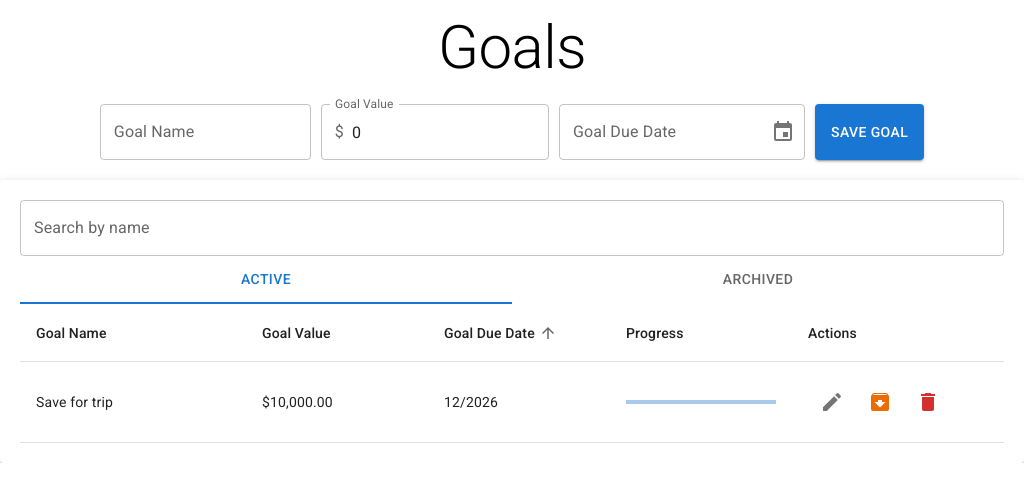
Goals page › should reset form when deselect is clicked after editing
Click the button named "Edit": (832,402) [808,378,856,426]
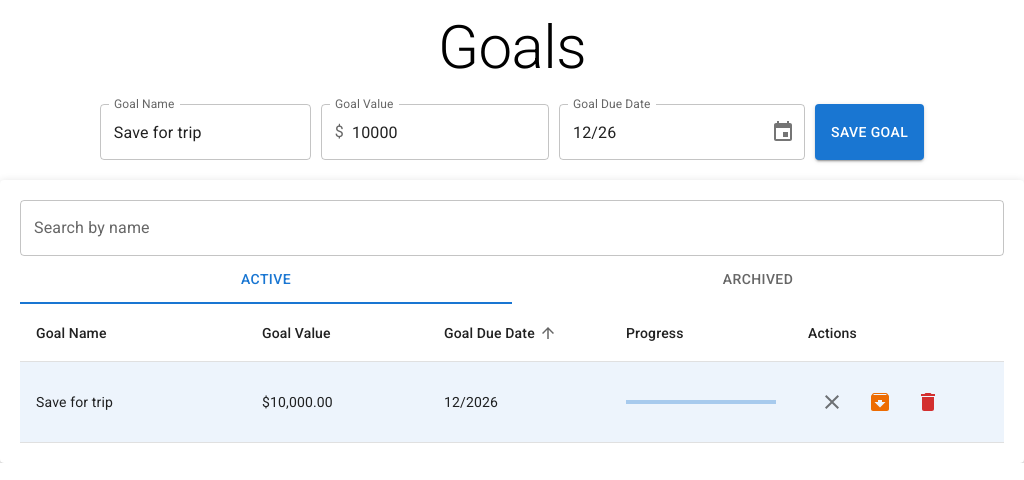
Now the field labelled "Goal Name" holds "Save for trip", box [100,104,311,160]
Click the button named "Deselect": (832,402) [808,378,856,426]
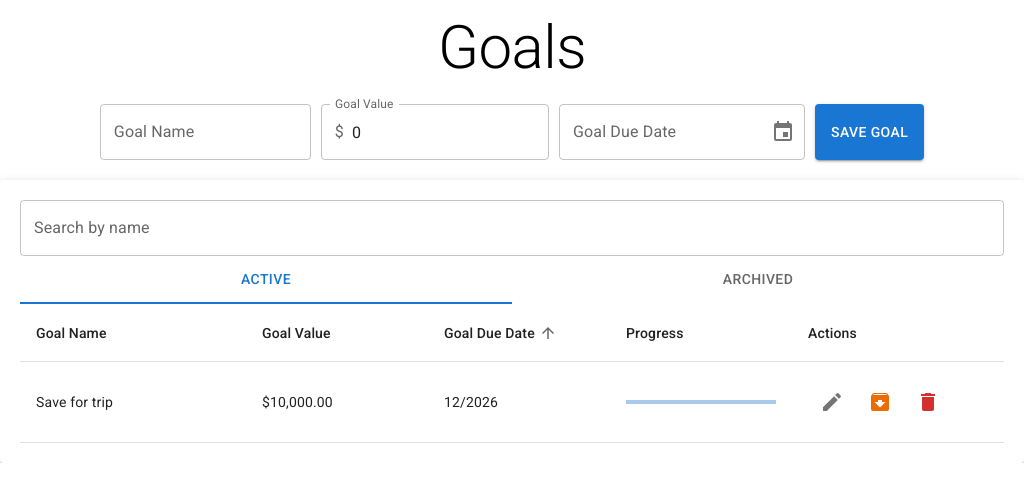
Now the field labelled "Goal Name" is empty, box [100,104,311,160]
Now the field labelled "Goal Value" holds "0", box [352,104,549,160]
